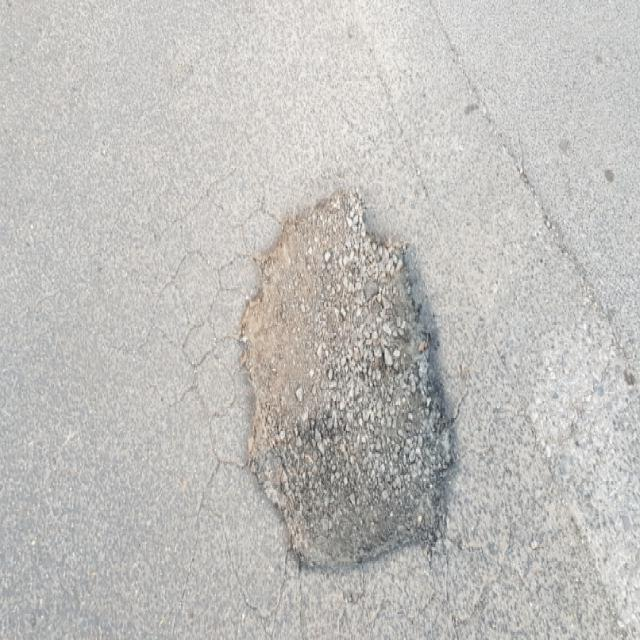Pothole: (235, 178, 465, 578)
